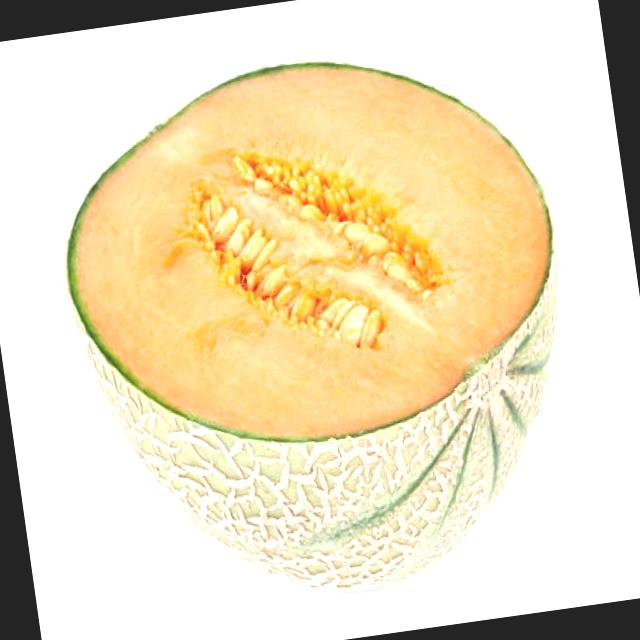cantaloupe: (41, 27, 601, 628)
